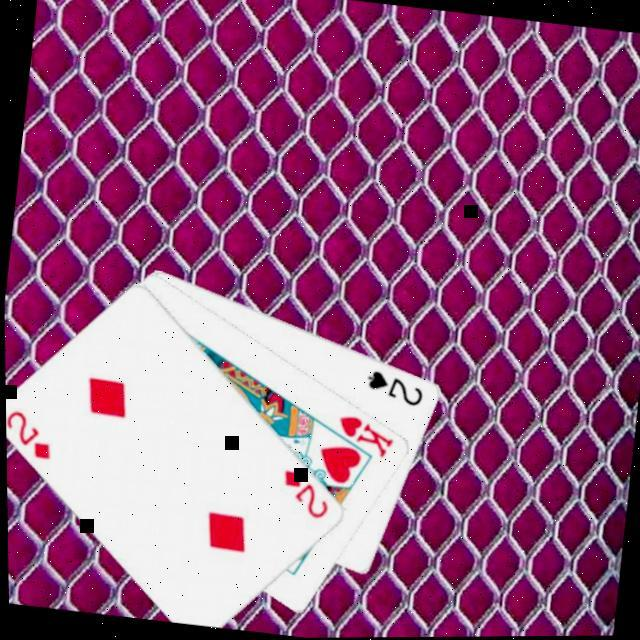2D: (275, 464, 336, 522), (5, 404, 60, 462)
2S: (361, 363, 430, 408)
KH: (332, 409, 400, 460)
